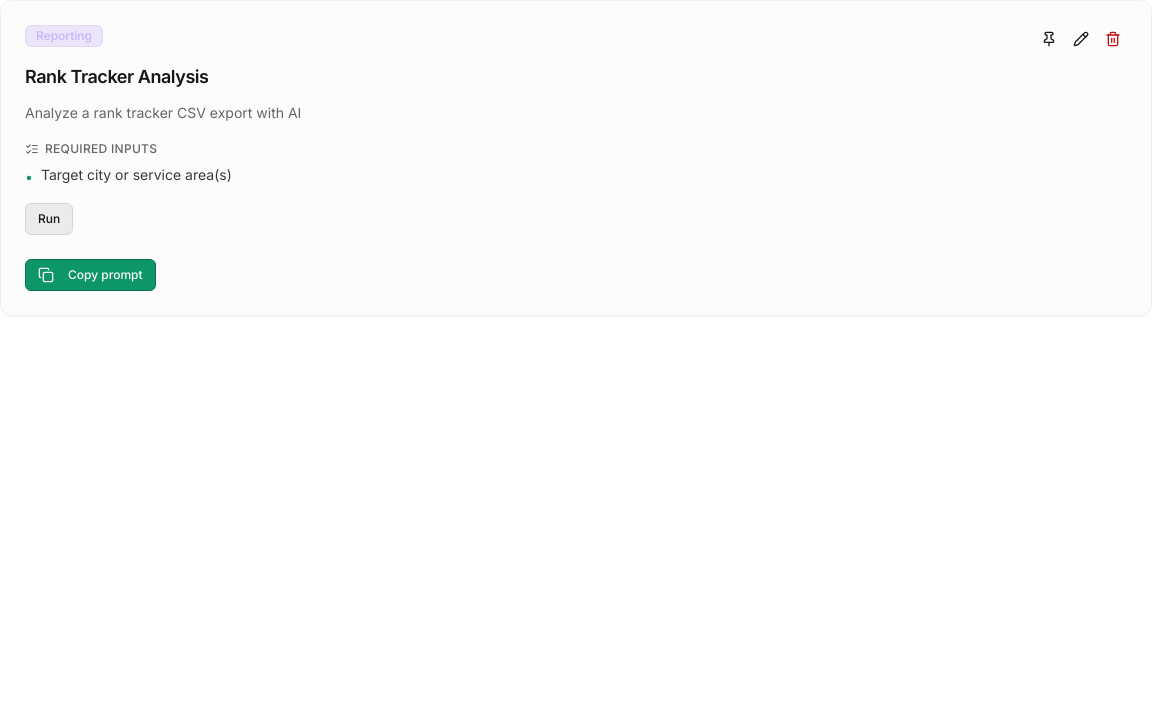
Test: WorkflowCard - Location Page Builder run › POSTs JSON with the collected inputValues and selected clientId after the dialog is confirmed
Click the button with test id "button-run-location-page-builder-7": (49, 218) [25,202,73,234]
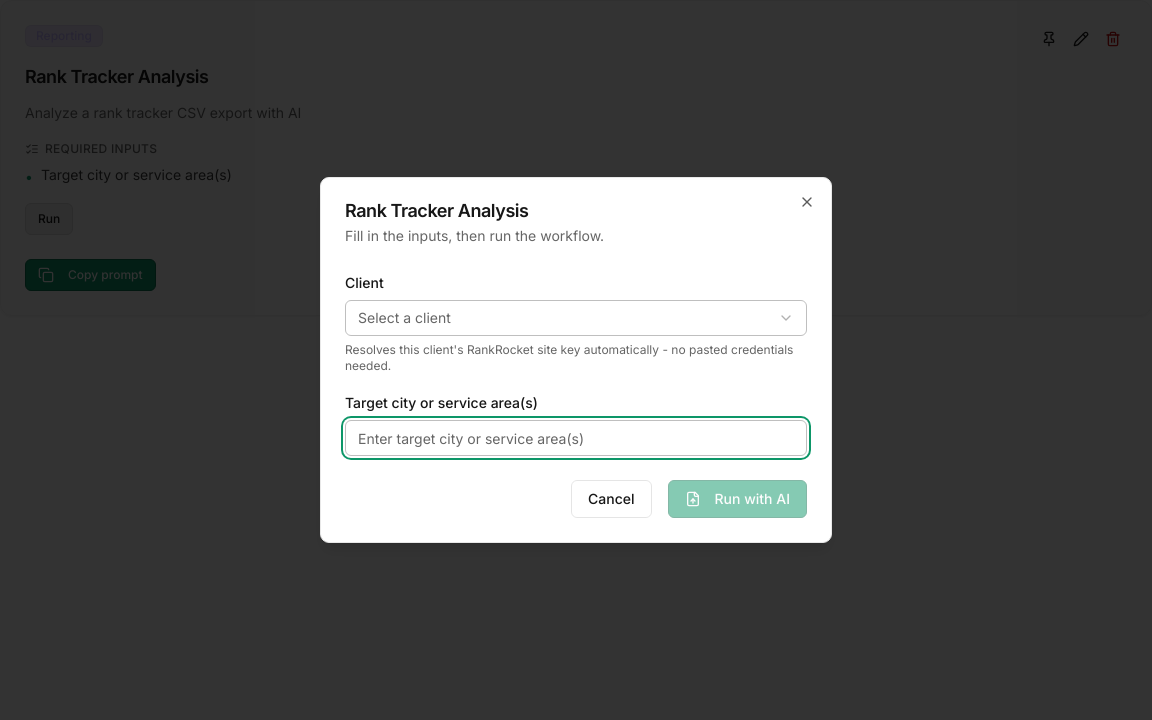
In the field with test id "launch-input-0": (576, 438) [345,420,807,456], type "Austin, Dallas"
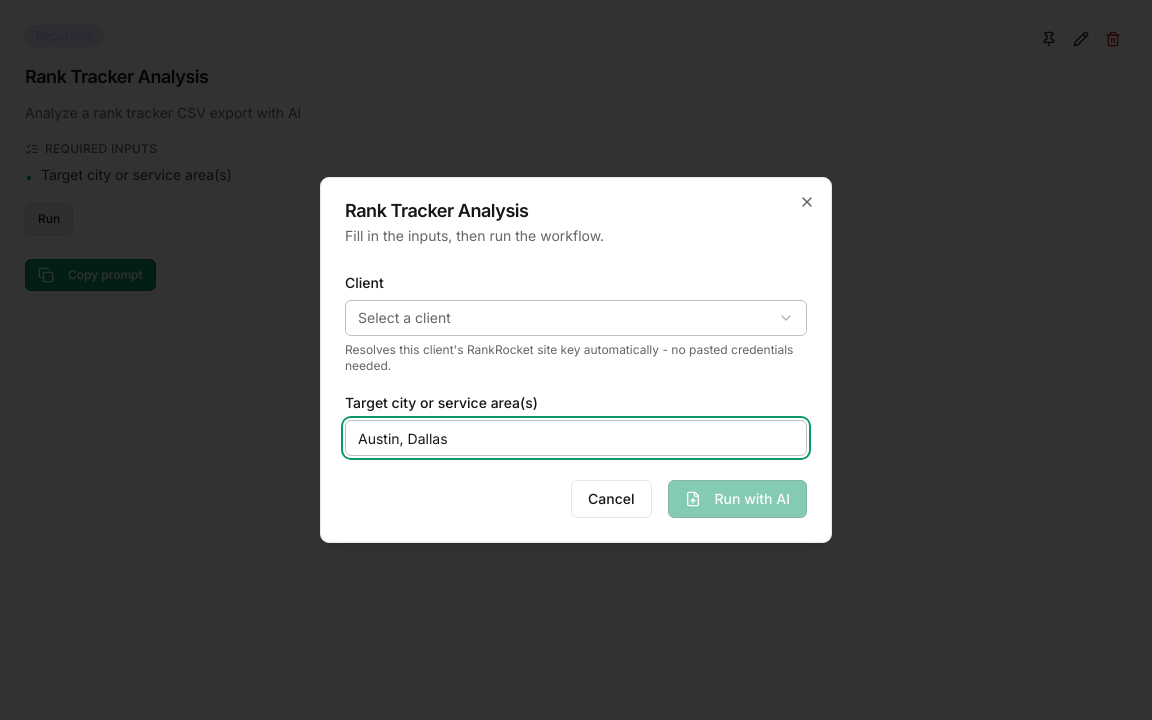
Click the dropdown with test id "launch-client-picker": (404, 318) [345,300,807,336]
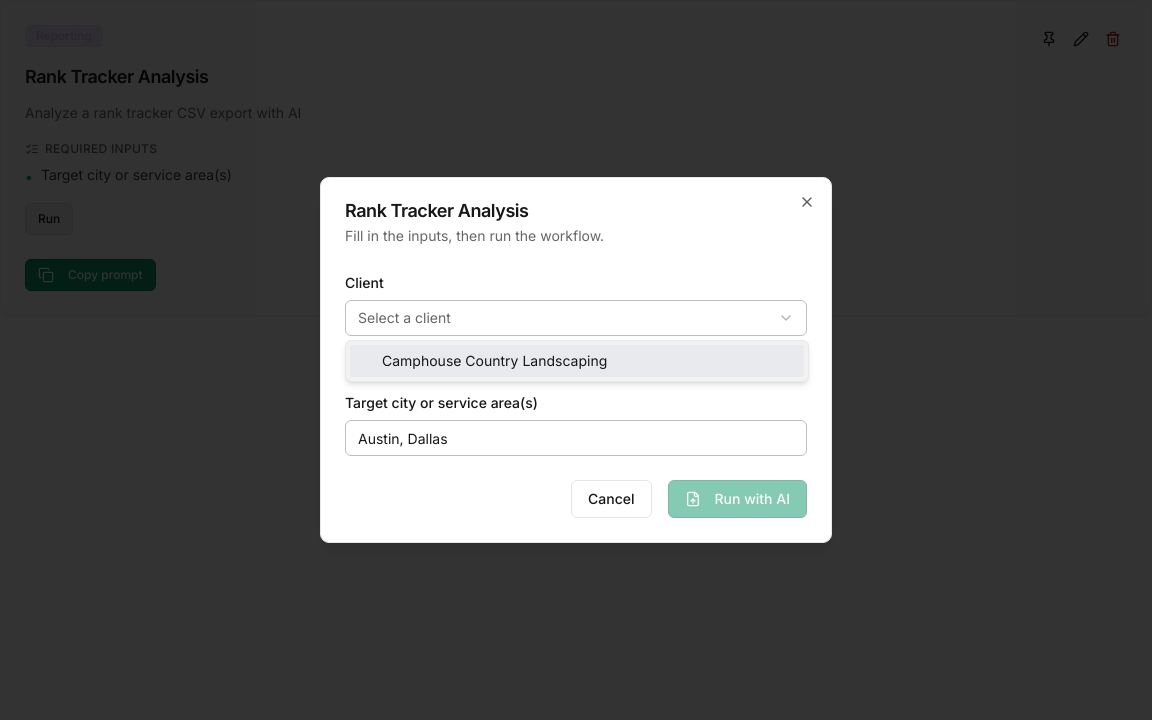
Click the option "Camphouse Country Landscaping": (577, 361) [350,345,804,377]
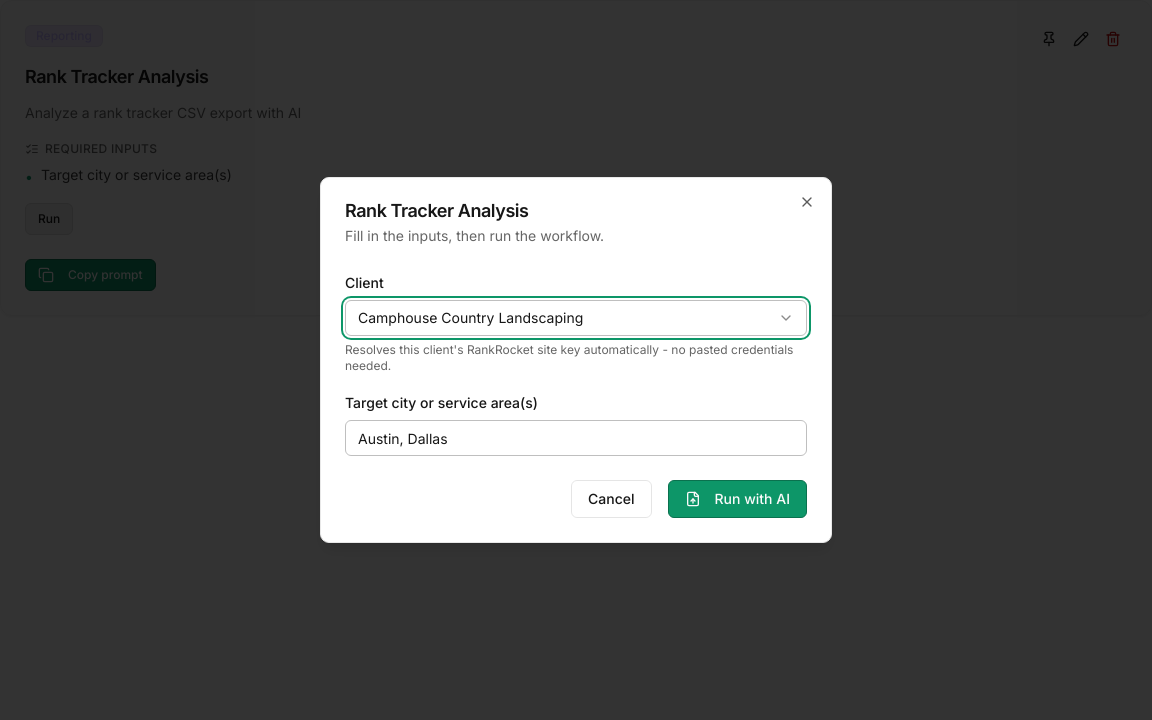
Click the button with test id "button-run-confirm": (737, 499) [668,480,807,518]
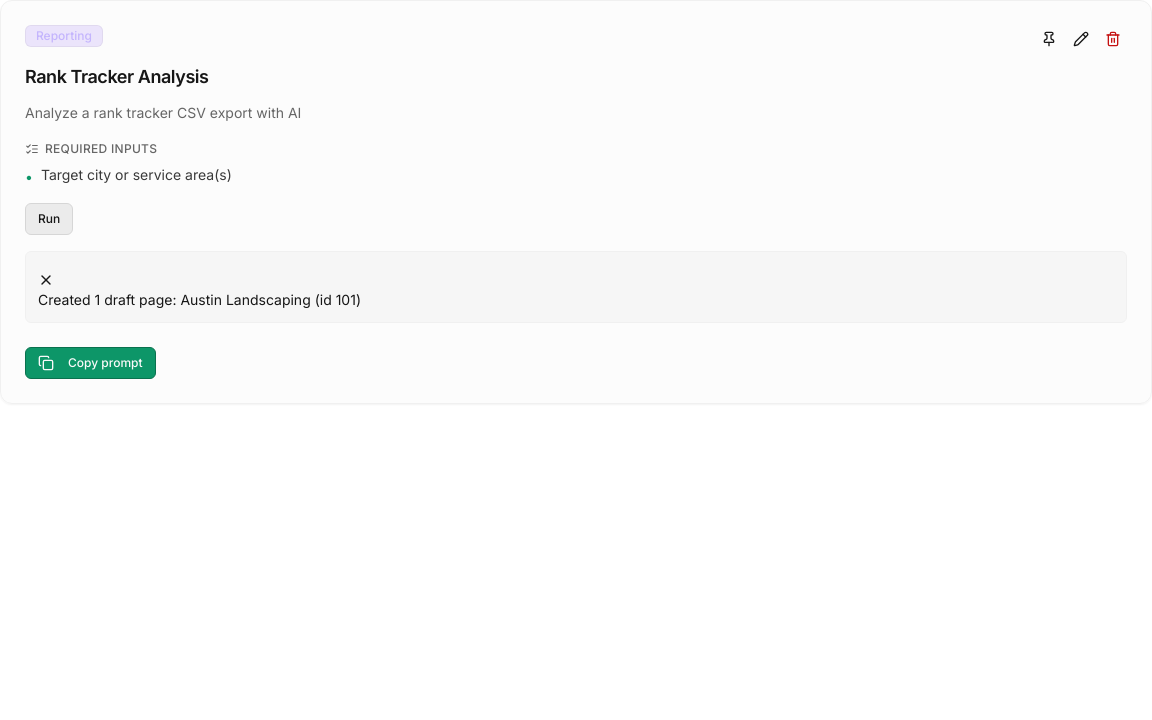
Check: the text "Created 1 draft page: Austin Landscaping (id 101)" is shown, box [38,290,361,308]
